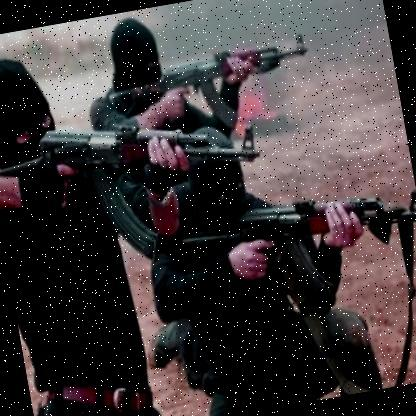rifle: (22, 93, 269, 274), (94, 28, 317, 146), (214, 176, 416, 284)
